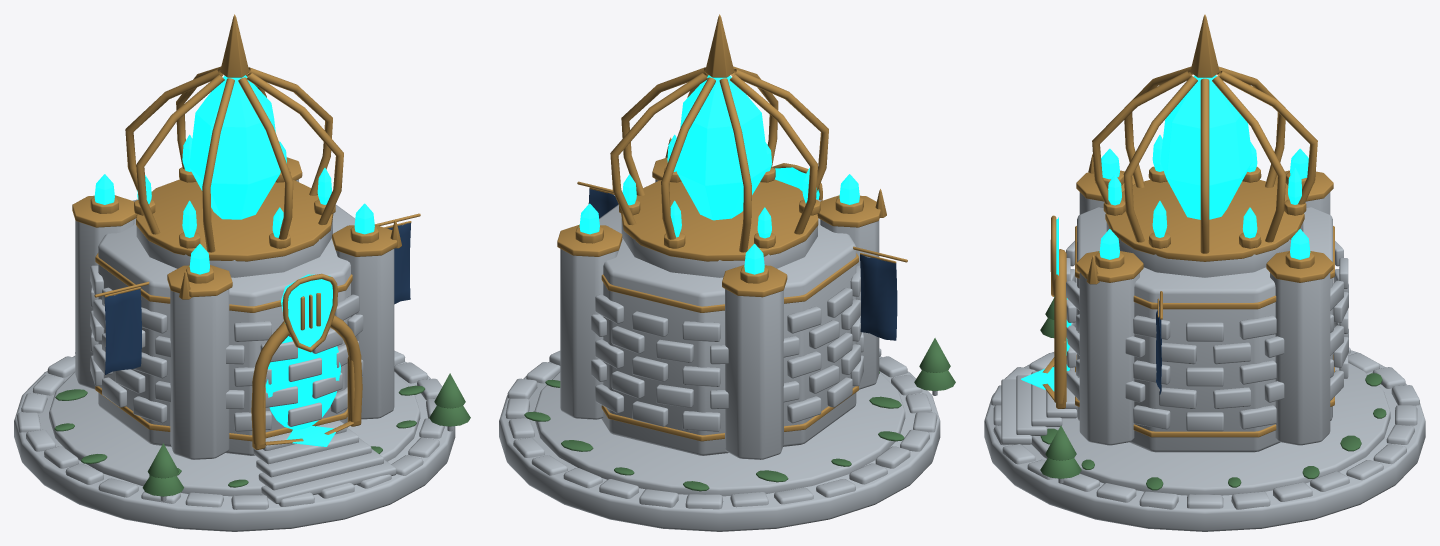
File: MainBase.fbx
3 renders of one model, left to right at view 1: azimuth 30°, elevation 25°; view 2: azimuth 150°, elevation 25°; view 3: azimuth 270°, elevation 25°, orthographic.
Visible parts, largest first — view 1: Base_Platform, Main_Drum, Base_InnerRise, CornerTower_2, Crystal_Core, Crown_GoldRing, CornerTower_3, CornerTower_1, Banner_L, Entrance_GoldArch, Portal_Energy, Crown_StoneSeat (+36 smaller); view 2: Main_Drum, Base_InnerRise, Base_Platform, CornerTower_1, Crystal_Core, Crown_GoldRing, CornerTower_0, Banner_L, Crown_StoneSeat, CornerTower_2, Crown_Rib_01, Crown_Rib_04 (+40 smaller); view 3: Main_Drum, Base_InnerRise, Base_Platform, CornerTower_0, CornerTower_3, Crown_GoldRing, Crystal_Core, Crown_StoneSeat, Entrance_GoldArch, Crown_Rib_00, Crown_Rib_01, Crown_Rib_07 (+35 smaller).
Boxes of the visible parts, x1,y1,x2,y2 form: Base_Platform: (14,356,455,531); Main_Drum: (98,199,355,455); Base_InnerRise: (49,371,420,496); CornerTower_2: (170,289,229,459); Crystal_Core: (189,75,280,219); Crown_GoldRing: (136,179,333,261); CornerTower_3: (335,249,394,419); CornerTower_1: (75,219,134,389); Banner_L: (104,289,141,374); Entrance_GoldArch: (251,315,362,444); Portal_Energy: (265,336,340,429); Crown_StoneSeat: (136,219,332,277); Main_Drum: (599,199,856,455); Base_InnerRise: (534,372,905,496); Base_Platform: (499,356,940,531); CornerTower_1: (725,289,783,459); Crystal_Core: (677,75,768,220); Crown_GoldRing: (621,179,818,261); CornerTower_0: (560,249,618,419); Banner_L: (860,254,897,340); Crown_StoneSeat: (621,219,817,277); CornerTower_2: (820,219,879,389); Crown_Rib_01: (610,72,707,225); Crown_Rib_04: (730,74,817,234); Main_Drum: (1077,207,1332,452); Base_InnerRise: (1031,362,1390,495); Base_Platform: (984,350,1425,531); CornerTower_0: (1270,272,1330,445); CornerTower_3: (1079,272,1139,445); Crown_GoldRing: (1105,179,1304,261); Crystal_Core: (1160,75,1252,219); Crown_StoneSeat: (1106,222,1303,277); Entrance_GoldArch: (1054,249,1066,403); Crown_Rib_00: (1200,78,1209,253); Crown_Rib_01: (1212,76,1286,242); Crown_Rib_07: (1123,76,1197,242).
Bounding box in the file's own units: 16.4 × 17.47 × 16.4.
